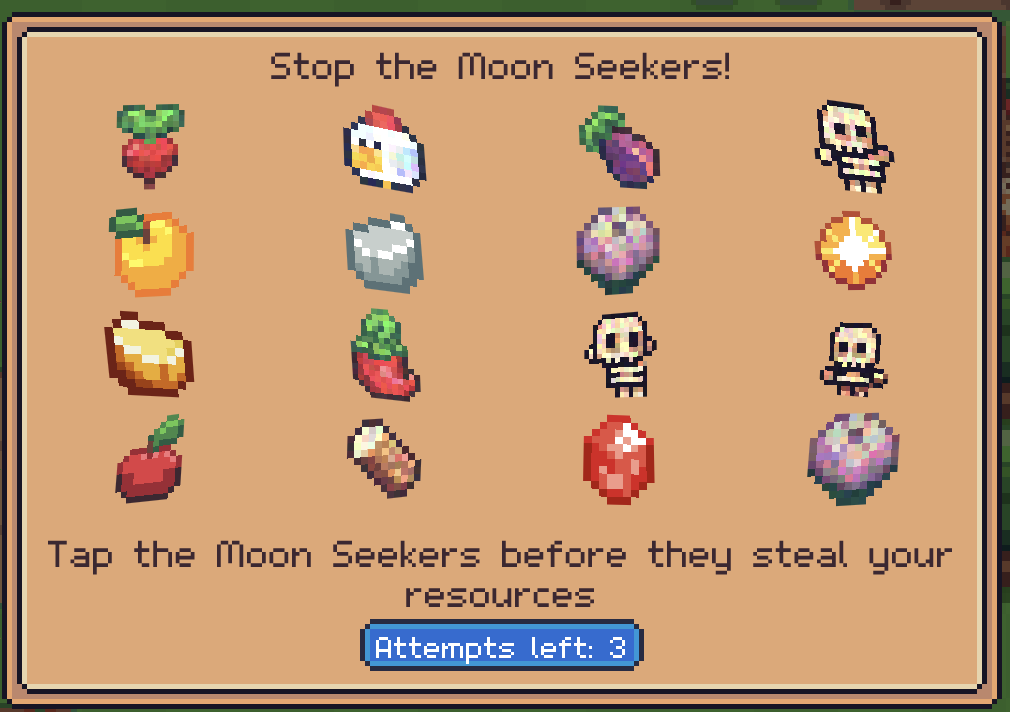capcha_sceleton: (812, 98, 896, 199), (583, 313, 659, 399), (821, 320, 889, 396)
